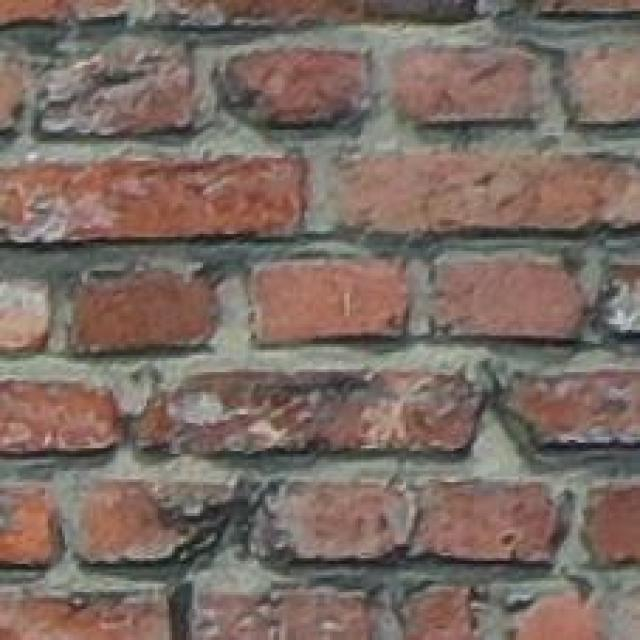Crack: (90, 394, 352, 640)
